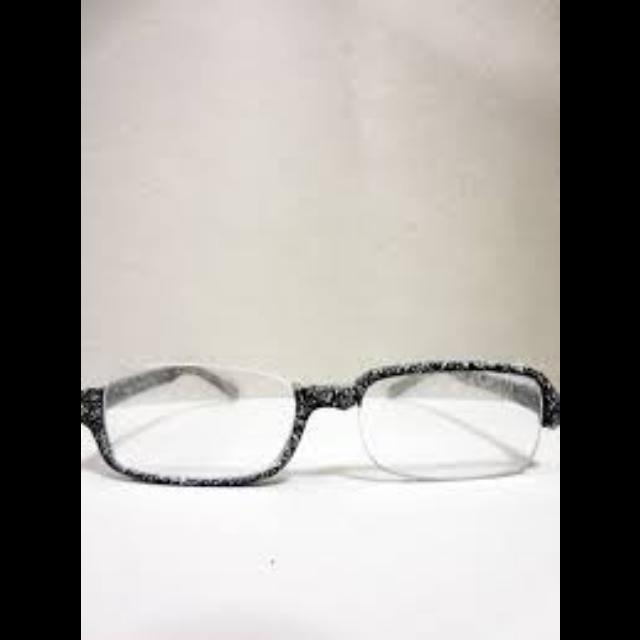glasses: (80, 357, 560, 489)
